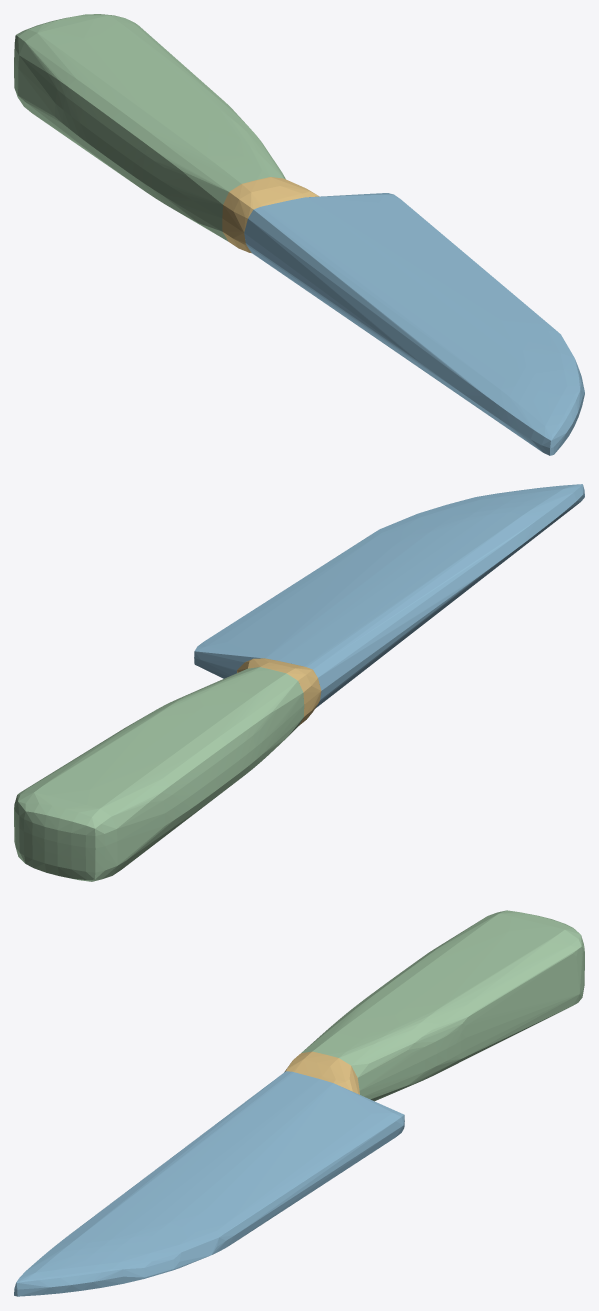
File: knife_collision.glb
3 renders of one model, top to bottom at view 1: azimuth 30°, elevation 25°; view 2: azimuth 150°, elevation 25°; view 3: azimuth 330°, elevation 25°, orthographic. The views are drawn at different scales.
Visible parts, largest first — view 1: world; view 2: world; view 3: world.
Part boxes in pixels (x1=…): world: x1=14, y1=14, x2=584, y2=455; world: x1=14, y1=484, x2=584, y2=881; world: x1=14, y1=910, x2=584, y2=1296.
Size of the model in its own units: 0.064 by 0.0302 by 0.3811.
